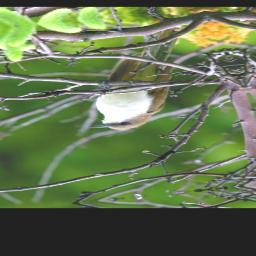Cuckoo: (48, 25, 234, 134)
